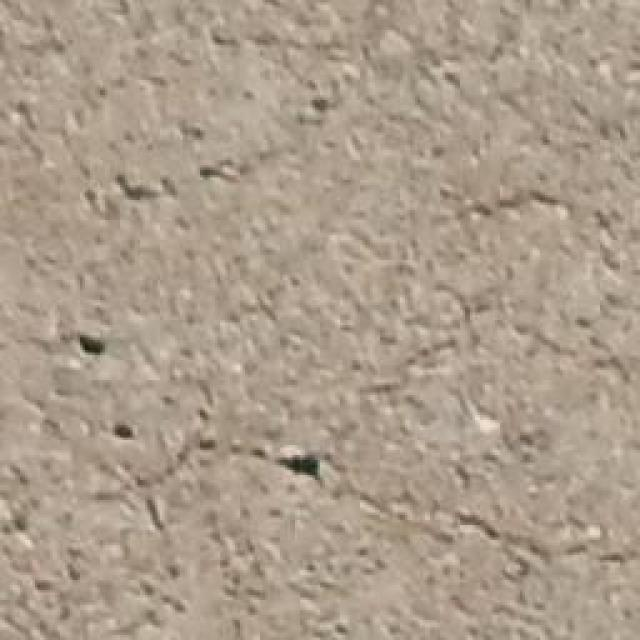concrete-crack: (133, 422, 638, 577)
